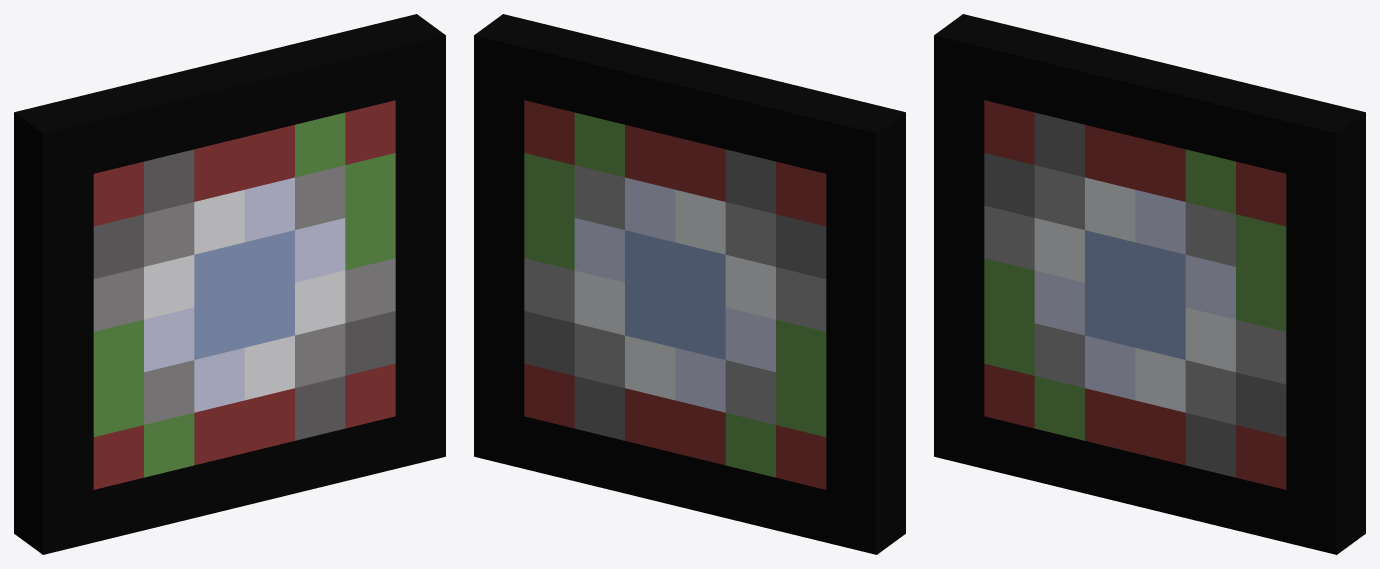
File: Cave Golem Spawner Block.glb
3 views of the same model, side by side, from view 1: azimuth 30°, elevation 25°; view 2: azimuth 150°, elevation 25°; view 3: azimuth 330°, elevation 25° (orthographic).
Visible parts, largest first — view 1: generated(Clone); view 2: generated(Clone); view 3: generated(Clone).
Part boxes in pixels (left/top/right/bottom): generated(Clone): left=14, top=14, right=445, bottom=554; generated(Clone): left=474, top=14, right=905, bottom=554; generated(Clone): left=934, top=14, right=1365, bottom=554.
Size of the model in its own units: 8 by 8 by 1.
Materials: 1 (1 with a texture image).
